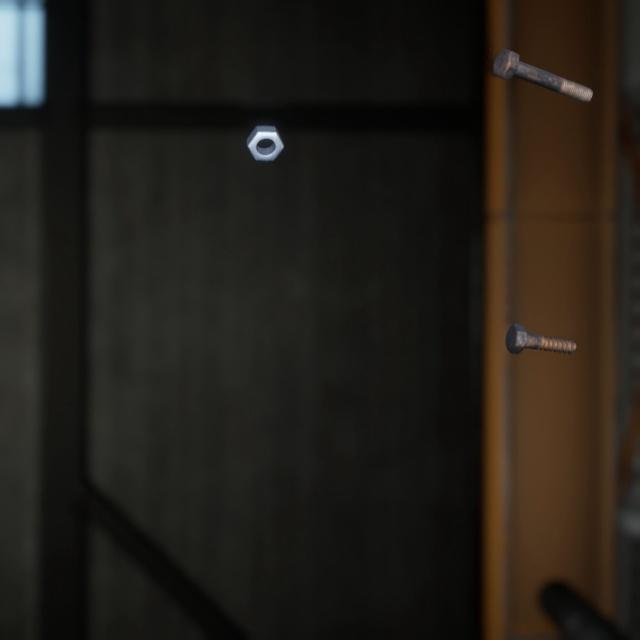bolt: (488, 33, 597, 96), (501, 300, 581, 340)
nut: (241, 107, 288, 152)
